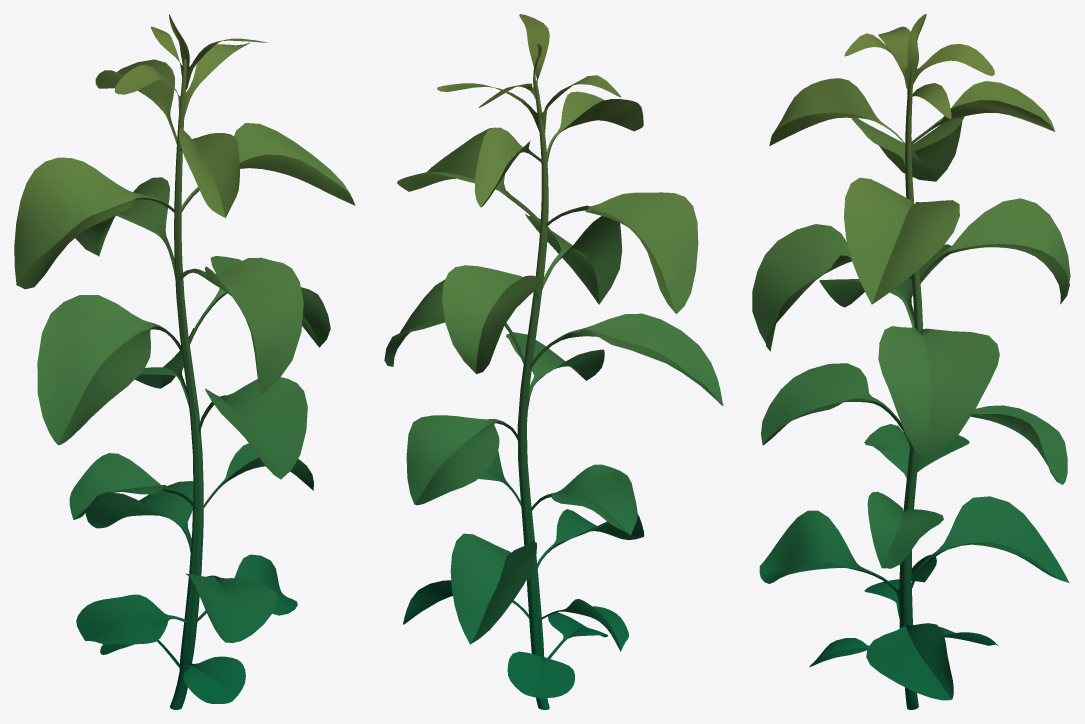
File: nettle_plant_4.glb
The picture shows the model from 3 angles, left to right: view 1: azimuth 30°, elevation 25°; view 2: azimuth 150°, elevation 25°; view 3: azimuth 270°, elevation 25°; orthographic projection. The views are drawn at different scales.
Parts seen in each view (by area): view 1: nettle_plant_tall_a_LOD0; view 2: nettle_plant_tall_a_LOD0; view 3: nettle_plant_tall_a_LOD0.
Boxes of the visible parts, <box> form: nettle_plant_tall_a_LOD0: <box>14,14,355,709</box>; nettle_plant_tall_a_LOD0: <box>384,14,723,709</box>; nettle_plant_tall_a_LOD0: <box>752,14,1070,709</box>.
Bounding box in the file's own units: 0.1036 × 0.2168 × 0.0901.
